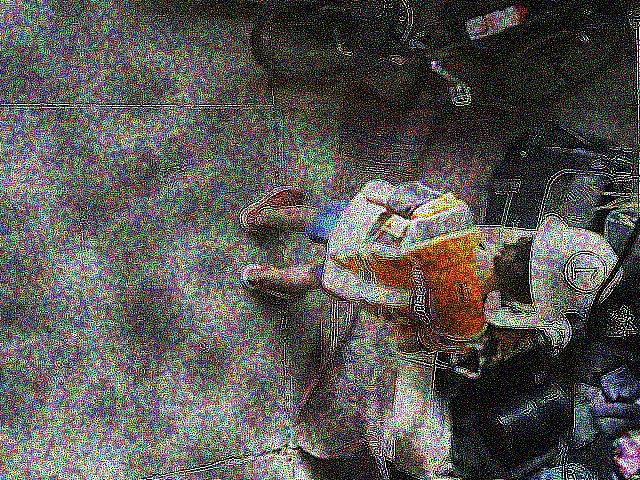one: (565, 251, 607, 291)
